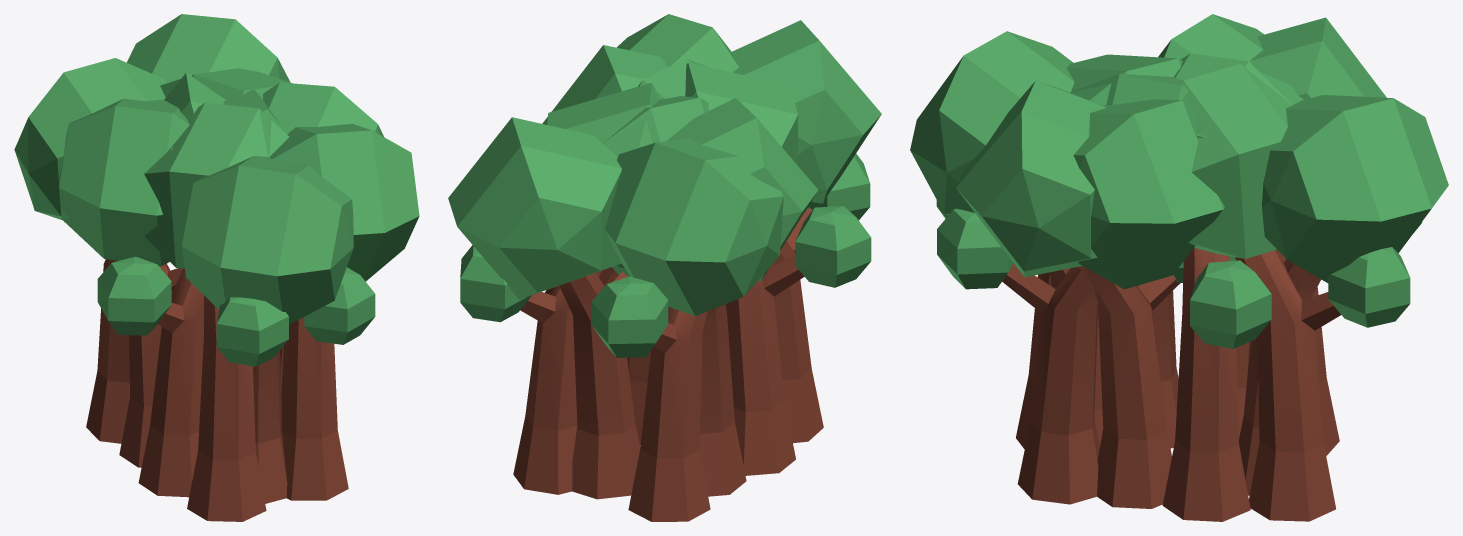
The picture shows the model from 3 angles, left to right: view 1: azimuth 30°, elevation 25°; view 2: azimuth 150°, elevation 25°; view 3: azimuth 270°, elevation 25°; orthographic projection. The views are drawn at different scales.
Parts seen in each view (by area): view 1: pCylinder51; view 2: pCylinder51; view 3: pCylinder51.
Part boxes in pixels (x1,y1,x2,y2): pCylinder51: [14, 14, 419, 521]; pCylinder51: [448, 14, 881, 521]; pCylinder51: [910, 14, 1448, 521].
Size of the model in its own units: 1154 by 1260 by 1528.
